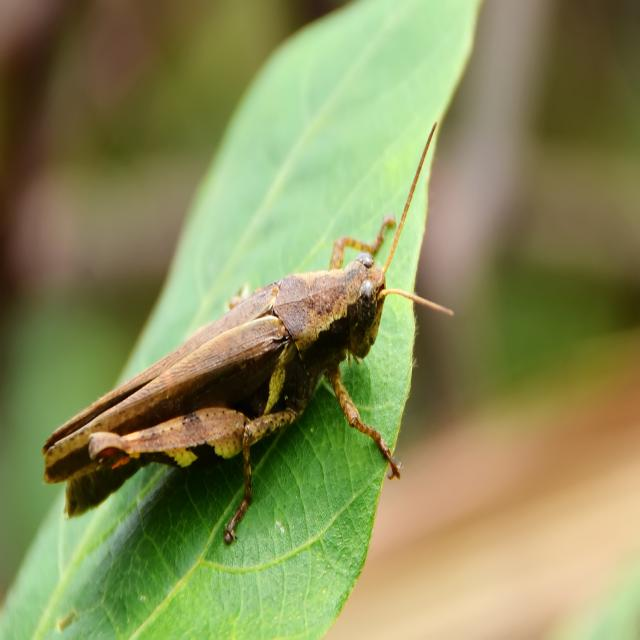ZhaMeng: (43, 149, 454, 530)
